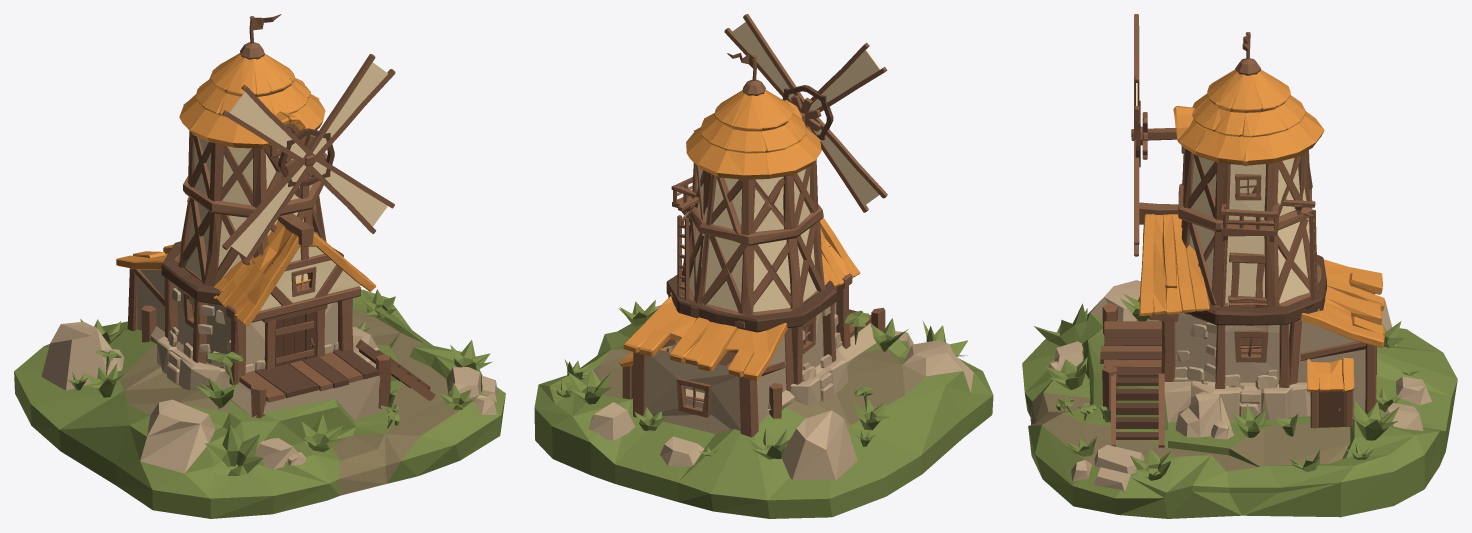
The model's file is mill.fbx.
The picture shows the model from 3 angles, left to right: view 1: azimuth 30°, elevation 25°; view 2: azimuth 150°, elevation 25°; view 3: azimuth 270°, elevation 25°; orthographic projection. The views are drawn at different scales.
Parts seen in each view (by area): view 1: mill_ground, tower, house, w1..003, roof, walls; view 2: mill_ground, house, tower, w1..003, walls, roof; view 3: mill_ground, tower, house, walls, roof, w1..003.
Boxes of the visible parts, <box> form: mill_ground: <box>14,289,505,518</box>; tower: <box>175,14,327,289</box>; house: <box>116,241,353,390</box>; w1..003: <box>222,54,395,264</box>; roof: <box>213,213,376,326</box>; walls: <box>185,138,312,282</box>; mill_ground: <box>534,300,993,518</box>; house: <box>619,273,852,437</box>; tower: <box>671,52,825,328</box>; w1..003: <box>724,14,887,212</box>; walls: <box>689,168,816,311</box>; roof: <box>820,217,860,287</box>; mill_ground: <box>1022,280,1457,518</box>; tower: <box>1131,32,1325,308</box>; house: <box>1159,254,1384,428</box>; walls: <box>1189,157,1309,305</box>; roof: <box>1139,202,1209,319</box>; w1..003: <box>1134,14,1147,256</box>.
Bounding box in the file's own units: 177 × 177 × 177.
